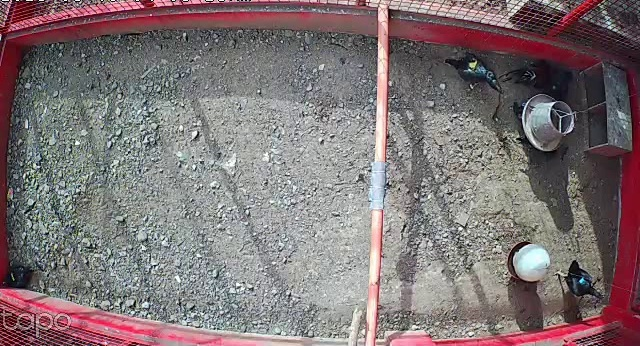Chicken: (442, 45, 505, 96), (552, 259, 604, 300), (0, 261, 36, 290)
Rooster: (497, 54, 563, 90)
Saddle_Color_Yellow: (468, 56, 479, 71)
